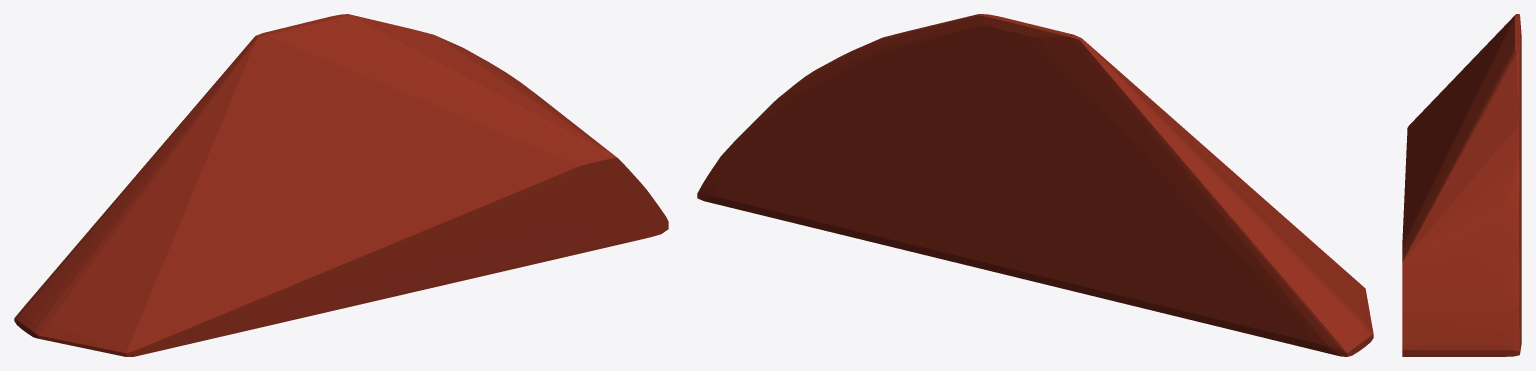
The model's file is right_shoulder_roll_link_part_15.obj.
3 views of the same model, side by side, from view 1: azimuth 30°, elevation 25°; view 2: azimuth 150°, elevation 25°; view 3: azimuth 270°, elevation 25° (orthographic). The views are drawn at different scales.
Bounding box in the file's own units: 0.0603 × 0.0228 × 0.0123.
